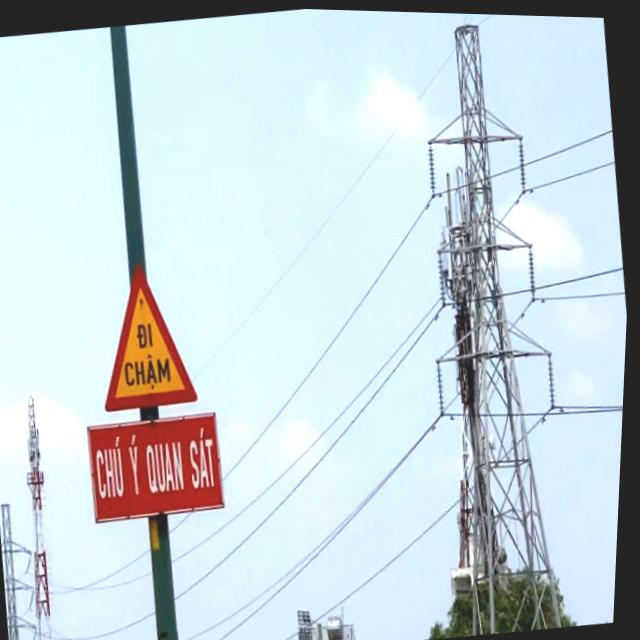Di cham: (89, 251, 211, 420)
